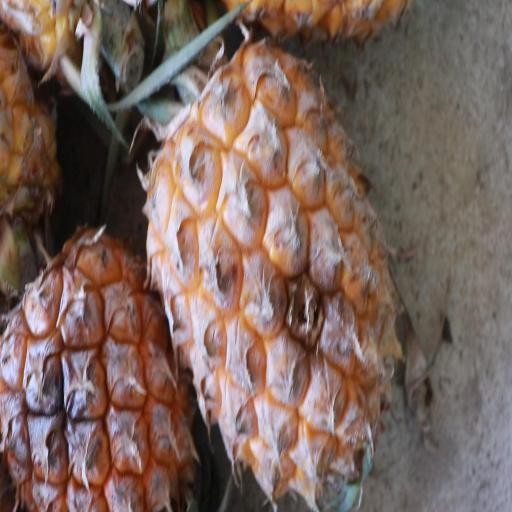Pineapple - v8 v1: (142, 53, 404, 509), (0, 206, 200, 512)
